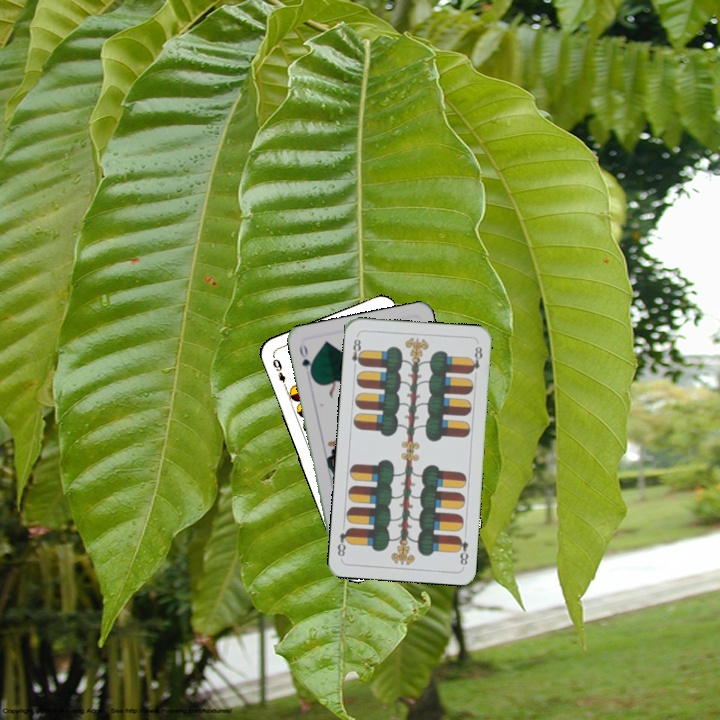E8: (348, 335, 366, 372), (453, 532, 471, 569)
E9: (268, 352, 290, 391)
GO: (295, 340, 315, 380)
